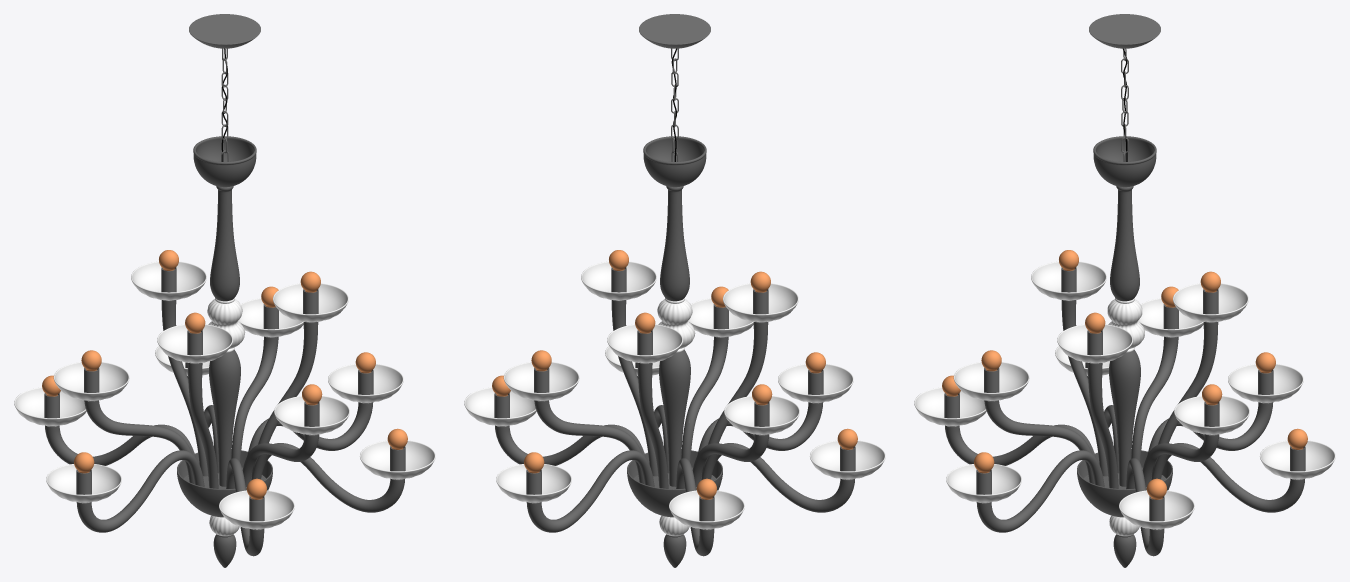
File: Chandelier2.glb
The picture shows the model from 3 angles, left to right: view 1: azimuth 30°, elevation 25°; view 2: azimuth 150°, elevation 25°; view 3: azimuth 270°, elevation 25°; orthographic projection.
Visible parts, largest first — view 1: 08 De Majo suspension lamp_Defintion1, 08 De Majo suspension lamp_Defintion2, 08 De Majo suspension lamp_Defintion8, 08 De Majo suspension lamp_Defintion; view 2: 08 De Majo suspension lamp_Defintion1, 08 De Majo suspension lamp_Defintion2, 08 De Majo suspension lamp_Defintion8, 08 De Majo suspension lamp_Defintion; view 3: 08 De Majo suspension lamp_Defintion1, 08 De Majo suspension lamp_Defintion2, 08 De Majo suspension lamp_Defintion8, 08 De Majo suspension lamp_Defintion.
Part boxes in pixels (x1,y1,x2,y2): 08 De Majo suspension lamp_Defintion1: [45, 136, 404, 567]; 08 De Majo suspension lamp_Defintion2: [14, 261, 435, 535]; 08 De Majo suspension lamp_Defintion8: [44, 14, 405, 521]; 08 De Majo suspension lamp_Defintion: [42, 250, 407, 499]; 08 De Majo suspension lamp_Defintion1: [495, 136, 854, 567]; 08 De Majo suspension lamp_Defintion2: [464, 261, 885, 535]; 08 De Majo suspension lamp_Defintion8: [494, 14, 855, 521]; 08 De Majo suspension lamp_Defintion: [492, 250, 857, 499]; 08 De Majo suspension lamp_Defintion1: [945, 136, 1304, 567]; 08 De Majo suspension lamp_Defintion2: [914, 261, 1335, 535]; 08 De Majo suspension lamp_Defintion8: [944, 14, 1305, 521]; 08 De Majo suspension lamp_Defintion: [942, 250, 1307, 499].
Bounding box in the file's own units: 1.16 × 1.58 × 1.12.
